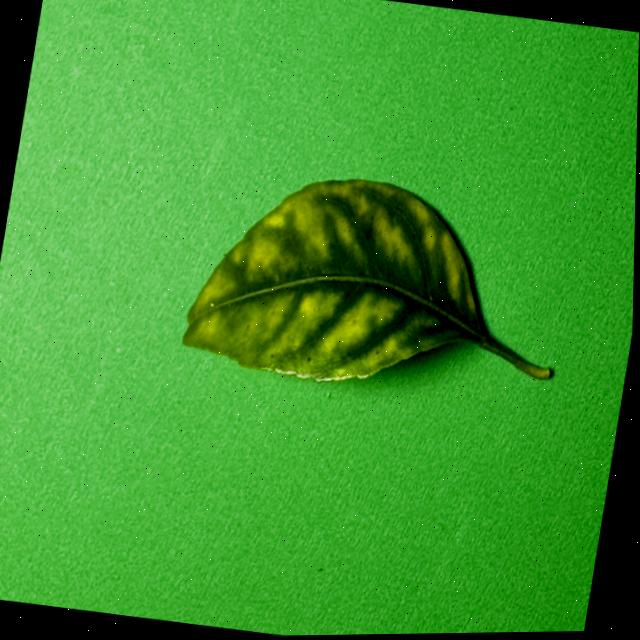greening: (182, 179, 548, 381)
